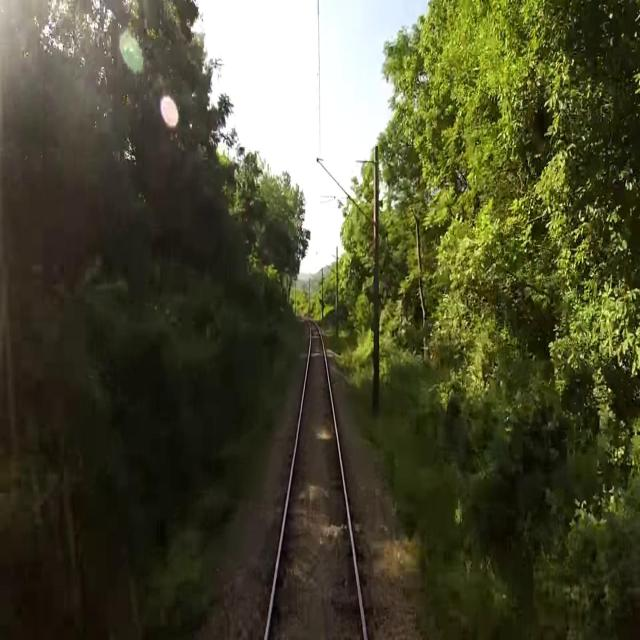rail-track: (269, 322, 362, 639)
